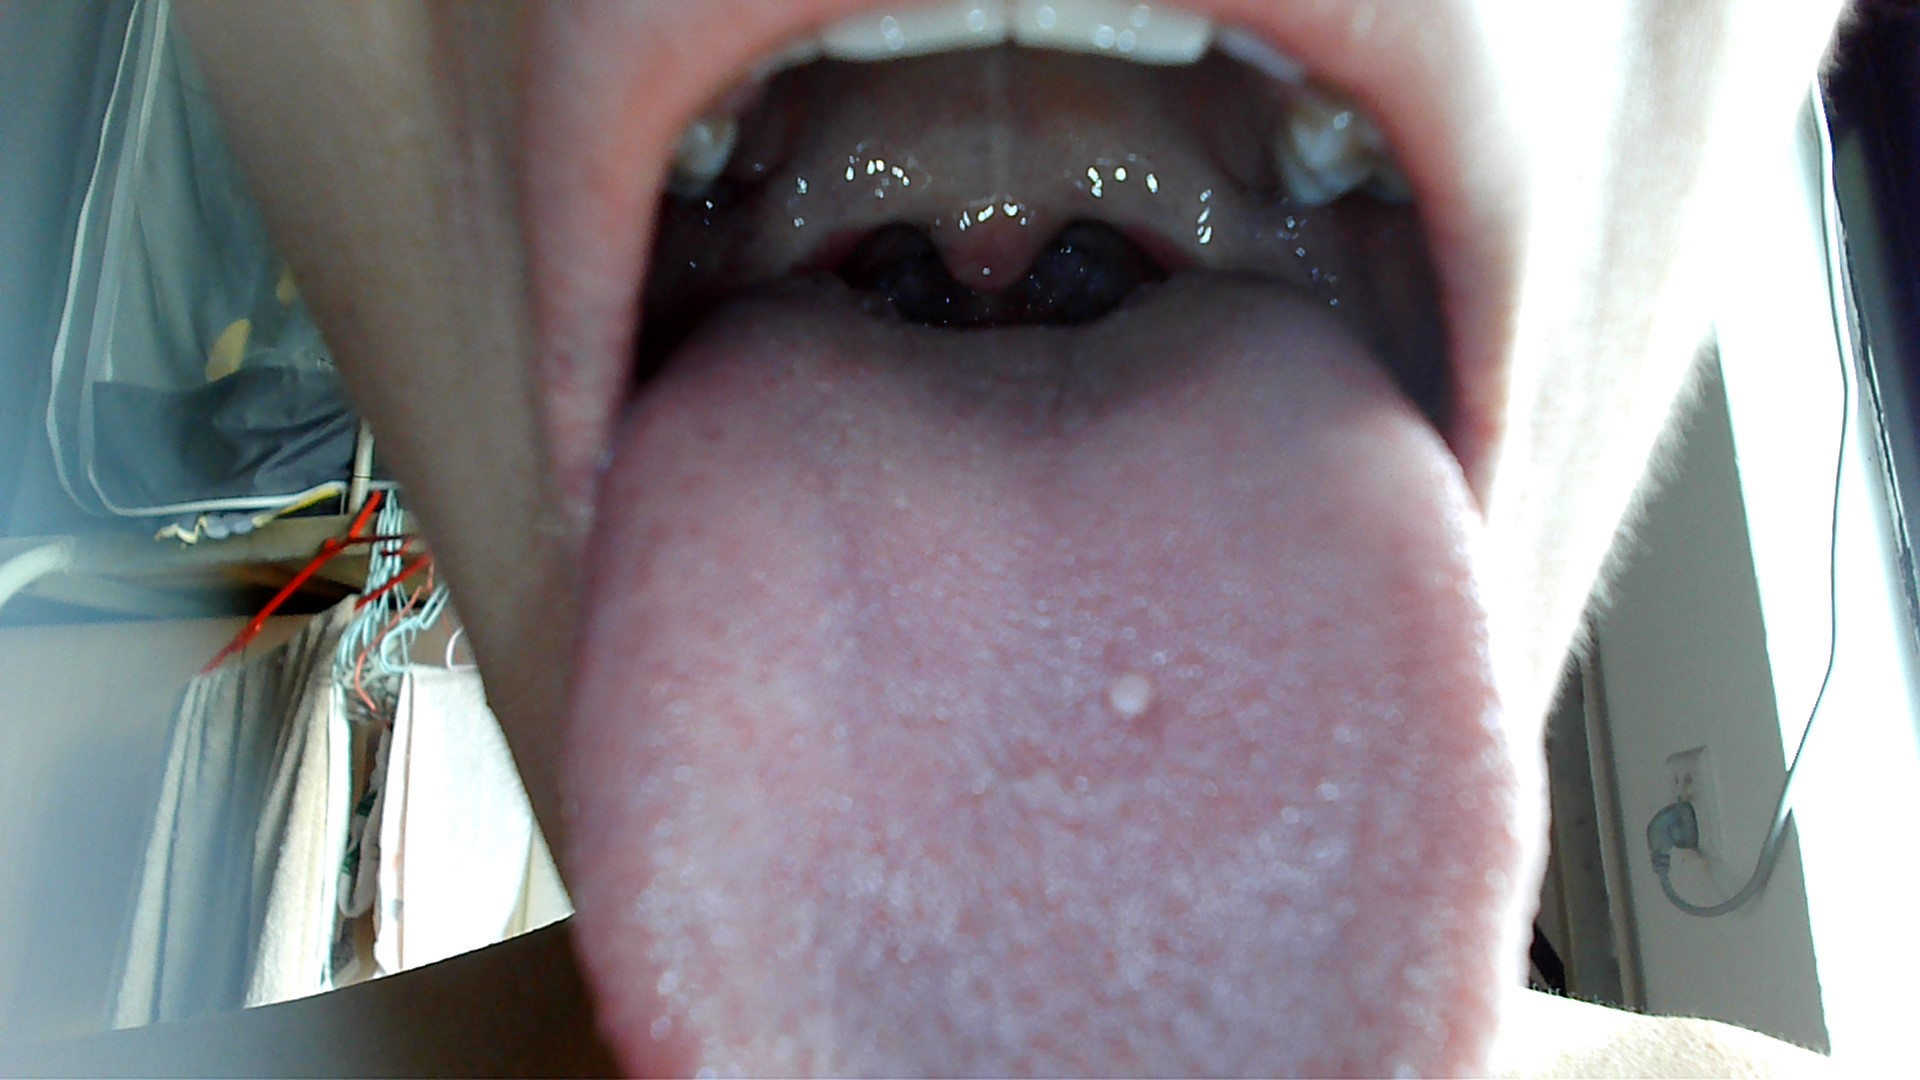throat: (1118, 152, 1230, 268), (735, 185, 855, 280)
